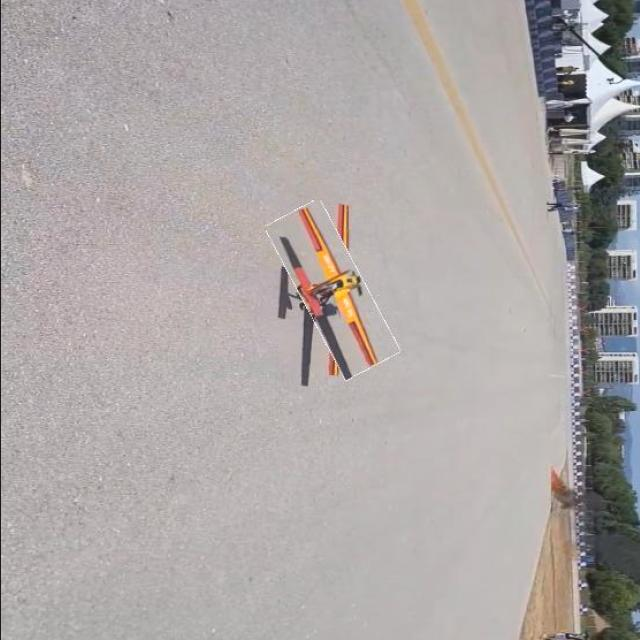plane: (262, 198, 400, 387)
